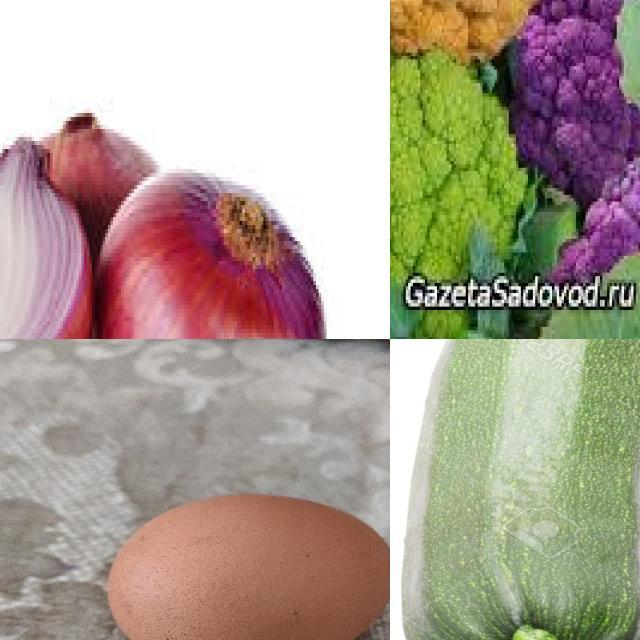egg: (99, 491, 391, 640)
onion: (94, 151, 330, 340), (1, 135, 99, 340)
zucchini: (403, 340, 640, 640)
